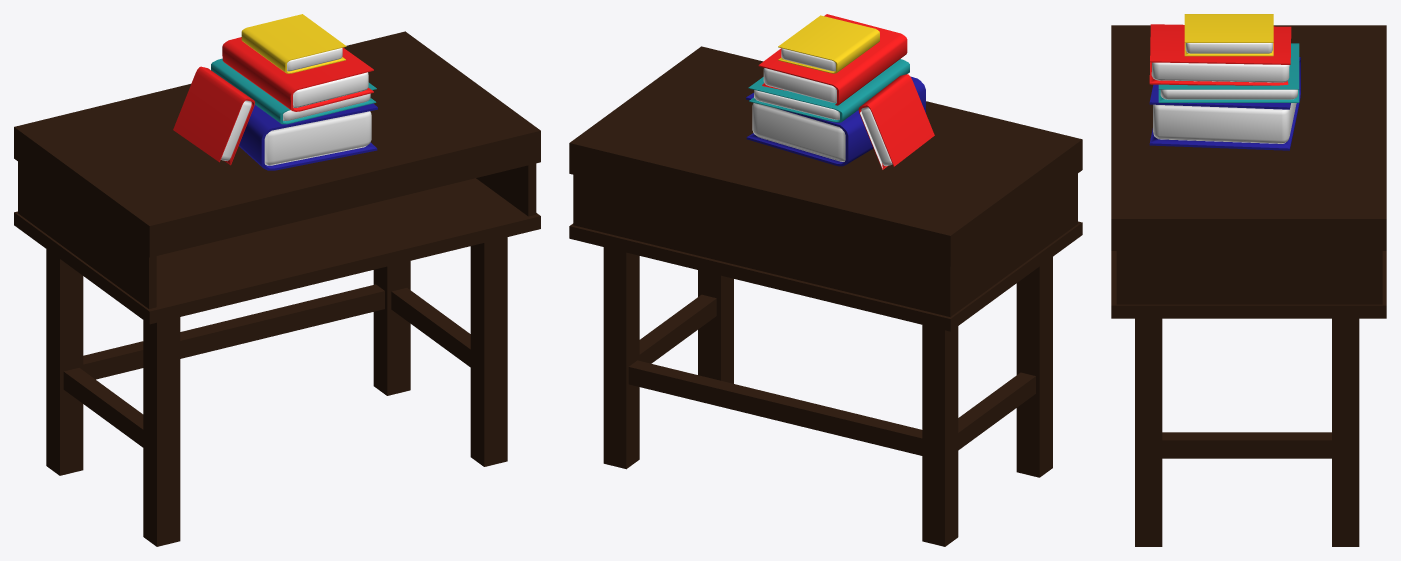
3 views of the same model, side by side, from view 1: azimuth 30°, elevation 25°; view 2: azimuth 150°, elevation 25°; view 3: azimuth 270°, elevation 25° (orthographic). The views are drawn at different scales.
Visible parts, largest first — view 1: Box001, Box003, C-Ext001, Box002, Box006, Box004, Box007, ChamferBox004, ChamferBox003, ChamferBox007, Box005, ChamferBox008 (+3 smaller); view 2: Box001, C-Ext001, Box004, Box007, Box003, Box005, Box002, ChamferBox004, ChamferBox003, ChamferBox007, ChamferBox008, Box006 (+3 smaller); view 3: Box001, C-Ext001, ChamferBox004, Box005, Box006, ChamferBox003, Box003, Box009, ChamferBox008, ChamferBox005.
Boxes of the visible parts, left/top/right/bottom form: Box001: left=14, top=31, right=540, bottom=257; Box003: left=14, top=178, right=540, bottom=324; C-Ext001: left=18, top=162, right=536, bottom=308; Box002: left=143, top=317, right=180, bottom=546; Box006: left=470, top=237, right=507, bottom=466; Box004: left=46, top=249, right=83, bottom=475; Box007: left=83, top=284, right=384, bottom=379; ChamferBox004: left=239, top=103, right=377, bottom=170; ChamferBox003: left=222, top=37, right=373, bottom=111; ChamferBox007: left=173, top=66, right=254, bottom=165; Box005: left=373, top=261, right=410, bottom=395; ChamferBox008: left=241, top=14, right=346, bottom=73; Box001: left=569, top=46, right=1082, bottom=266; C-Ext001: left=573, top=173, right=1077, bottom=317; Box004: left=922, top=325, right=958, bottom=546; Box007: left=628, top=360, right=922, bottom=455; Box003: left=569, top=221, right=1082, bottom=331; Box005: left=603, top=247, right=639, bottom=469; Box002: left=1016, top=257, right=1052, bottom=477; ChamferBox004: left=746, top=76, right=925, bottom=166; ChamferBox003: left=758, top=14, right=907, bottom=105; ChamferBox007: left=858, top=74, right=934, bottom=169; ChamferBox008: left=778, top=15, right=879, bottom=73; Box006: left=698, top=270, right=733, bottom=383; Box001: left=1111, top=25, right=1386, bottom=250; C-Ext001: left=1116, top=251, right=1382, bottom=304; ChamferBox004: left=1149, top=57, right=1300, bottom=150; Box005: left=1332, top=318, right=1359, bottom=546; Box006: left=1135, top=318, right=1162, bottom=546; ChamferBox003: left=1149, top=24, right=1291, bottom=85; Box003: left=1111, top=251, right=1386, bottom=318; Box009: left=1162, top=432, right=1331, bottom=458; ChamferBox008: left=1184, top=14, right=1273, bottom=56; ChamferBox005: left=1158, top=43, right=1299, bottom=102.
Bounding box in the file's own units: 50 × 52.58 × 30.
5 materials, 4 textured.
